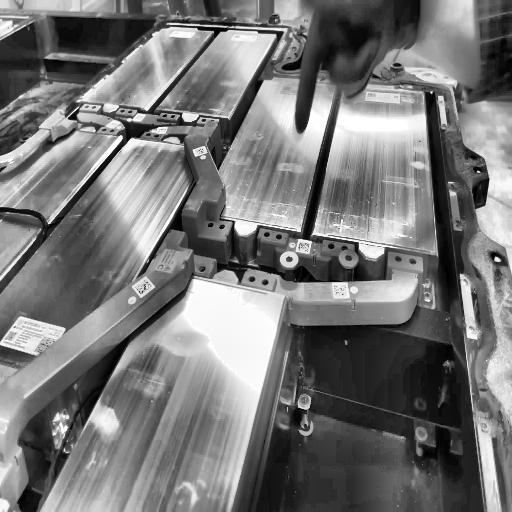battery_module: (312, 83, 438, 252), (198, 79, 336, 233), (79, 27, 213, 112), (157, 30, 277, 121)
busbar: (0, 91, 435, 506)
